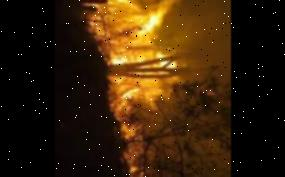fire: (77, 0, 201, 121), (114, 121, 159, 177)
